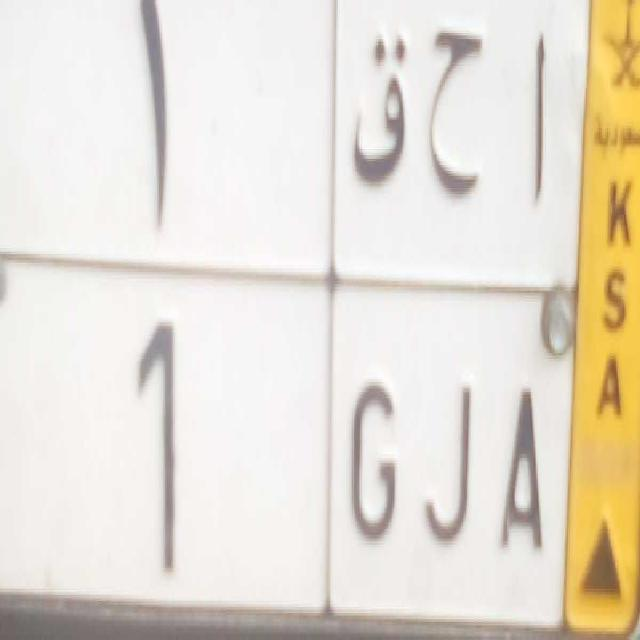license_plate: (0, 248, 565, 639)
